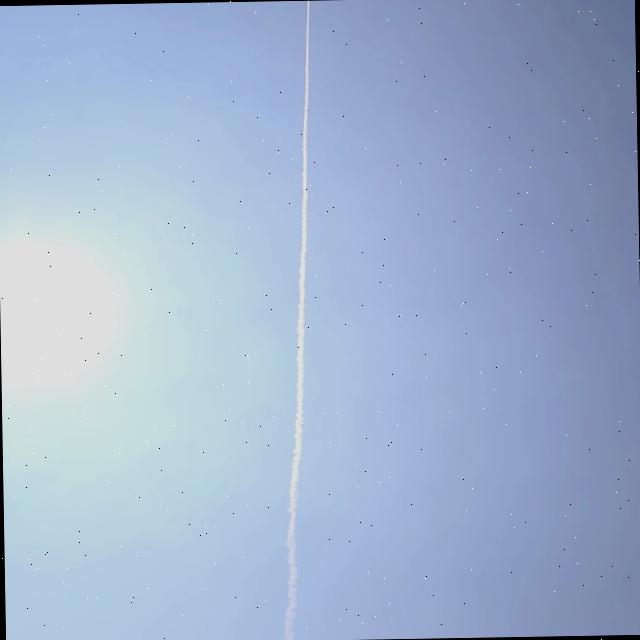smoke_trail_no_rocket: (283, 0, 309, 640)
